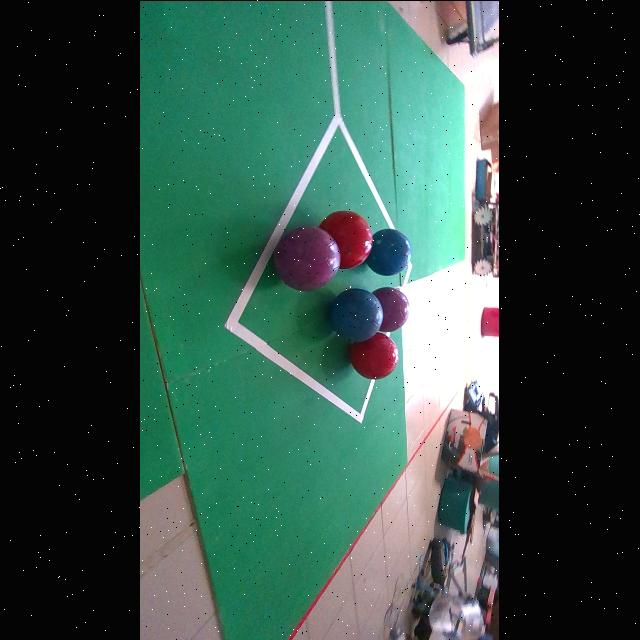B: (330, 288, 384, 341), (368, 228, 413, 275)
P: (274, 226, 342, 291), (374, 285, 410, 331)
R: (320, 209, 375, 268), (351, 332, 399, 378)
